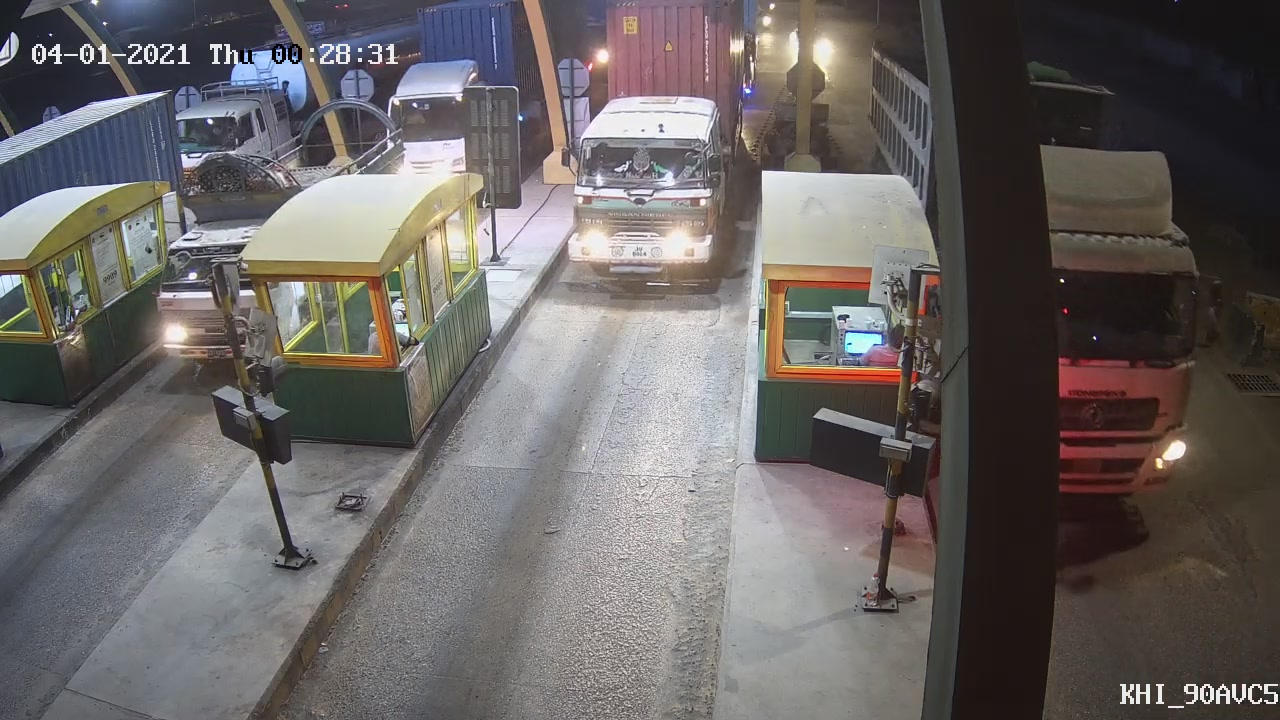F5: (550, 5, 743, 316)
